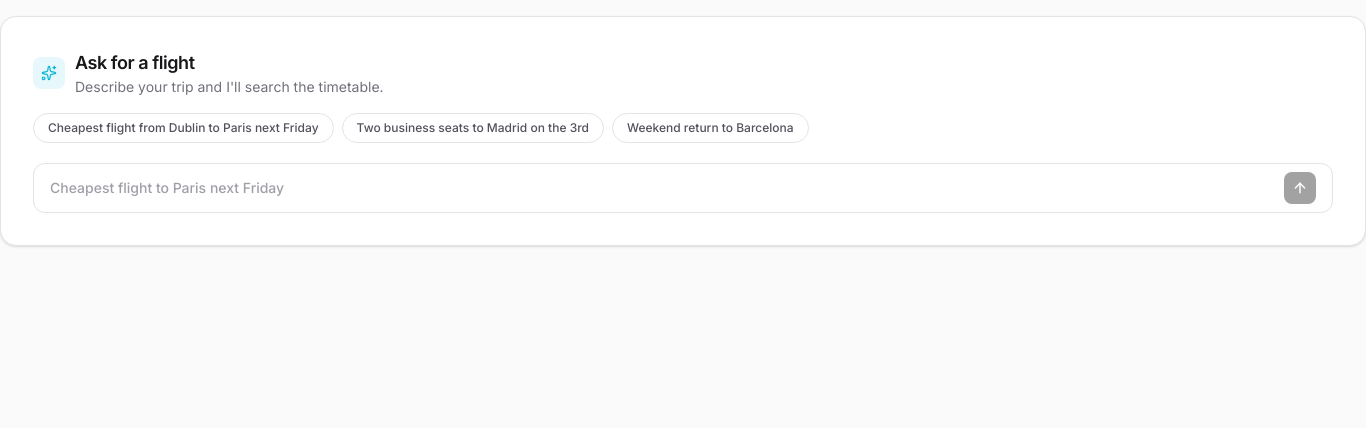
AssistantChat › answers › renders the returned rows, not flights named only in the prose
Step 1. Type "cheapest flight to Paris next Friday" into the field named "Describe your trip" → (663, 188), box [50,174,1276,202]
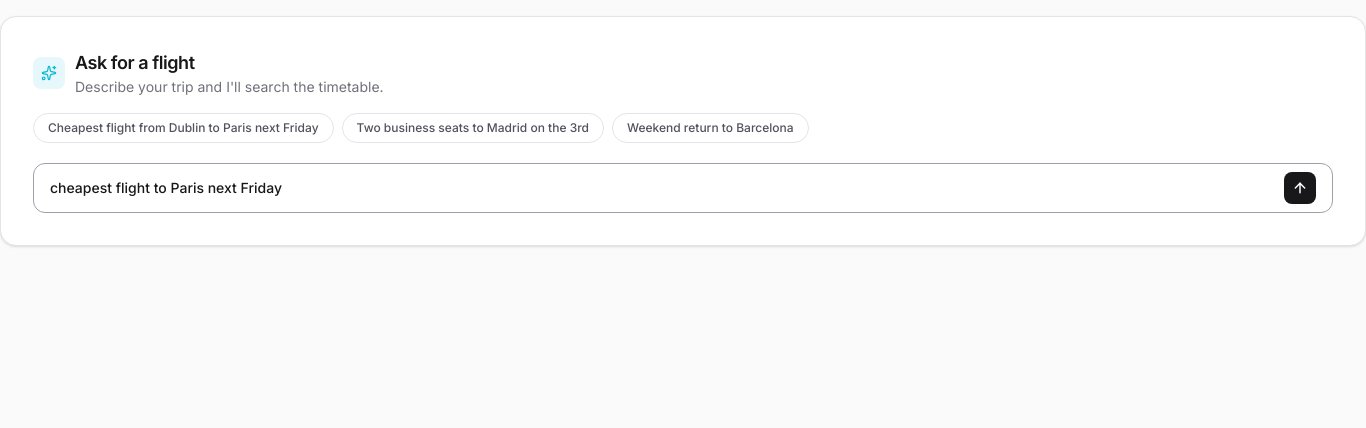
Step 2. Click the button named "Send" → (1300, 188), box [1284,172,1316,204]
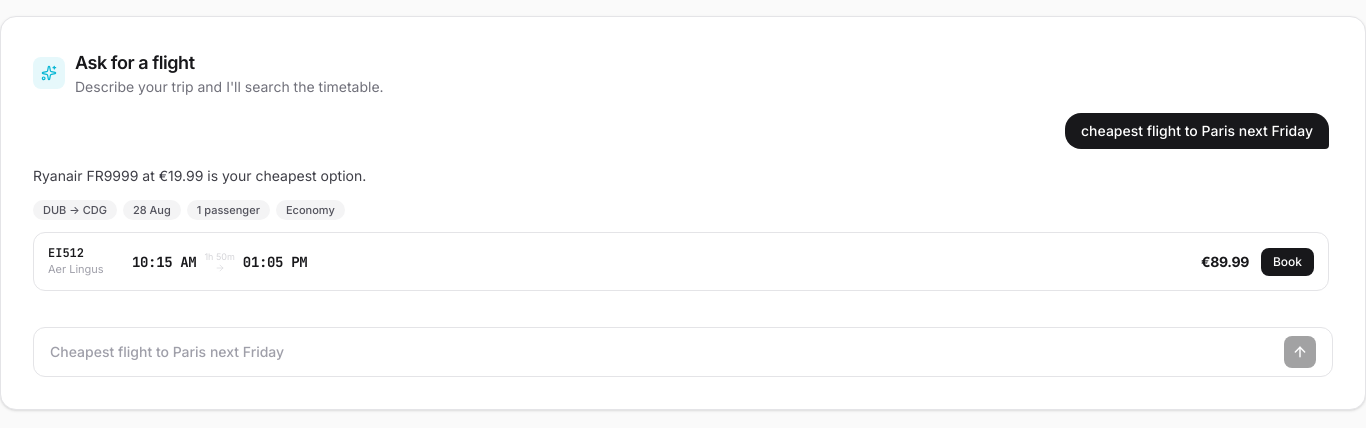
expect the text "EI512" is shown: met, box [48,245,84,261]
expect the text "Aer Lingus" is shown: met, box [48,262,104,276]
expect the text "€89.99" is shown: met, box [1201,252,1249,272]
